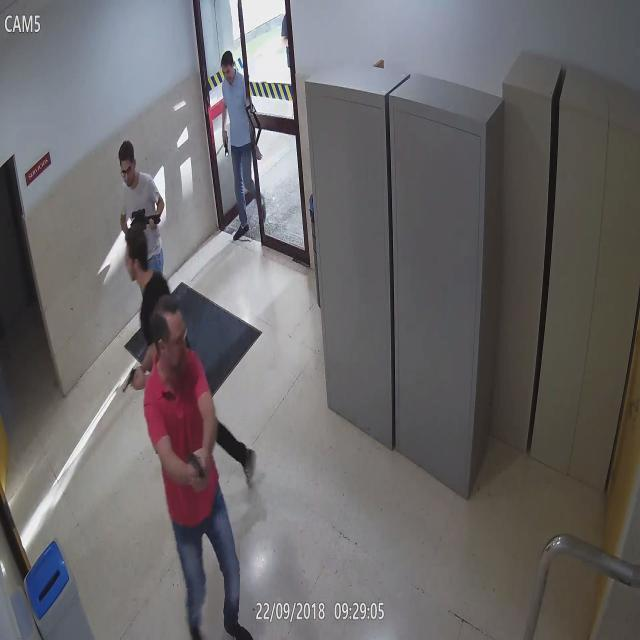weapon: (125, 208, 162, 232), (186, 456, 207, 480), (124, 370, 140, 392)
